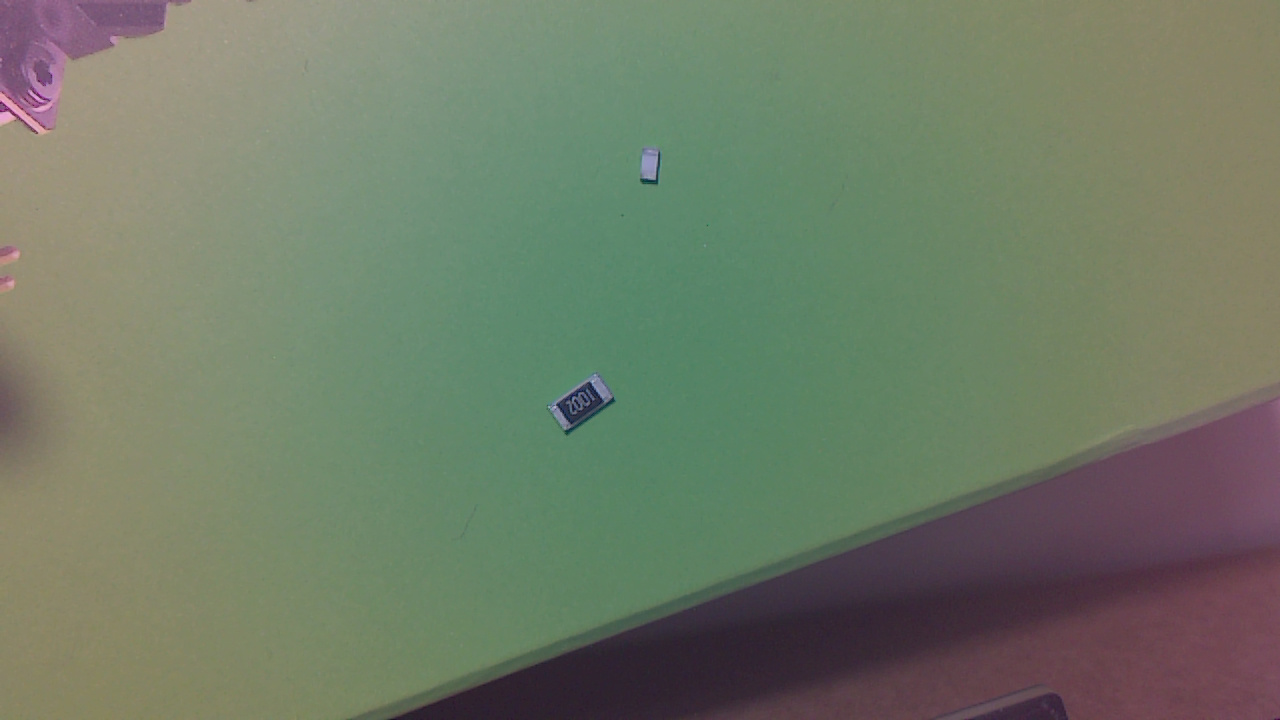Resistor: (550, 378, 620, 441)
